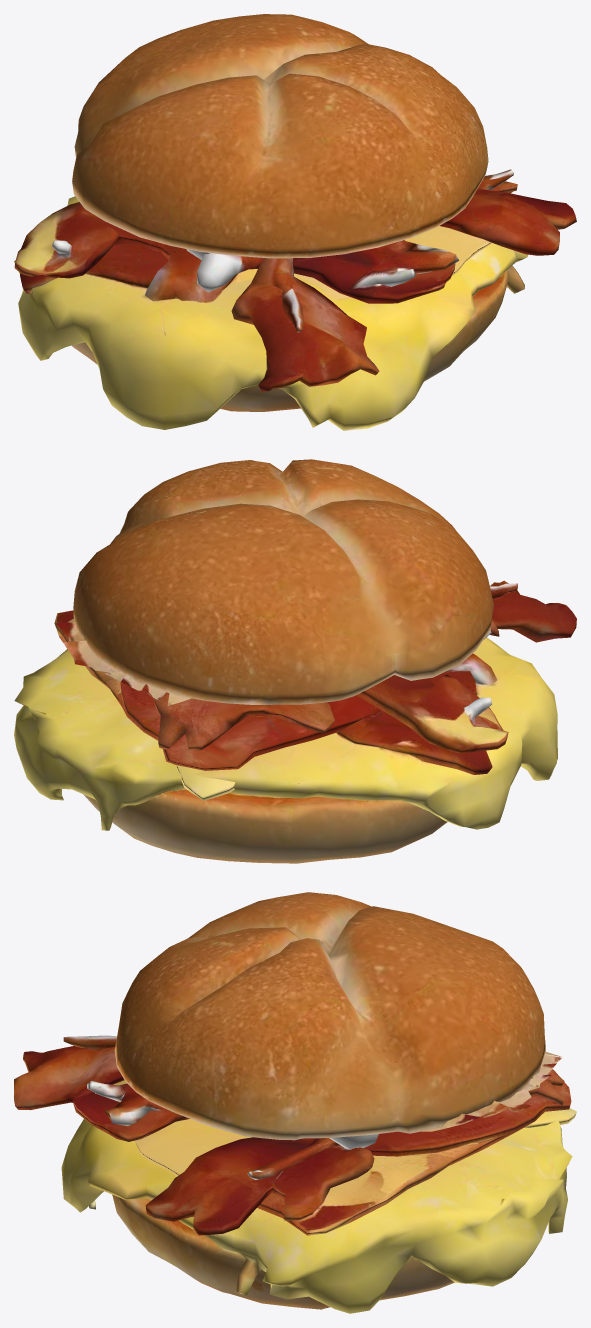
Rendered from bec-compressed.glb.
3 views of the same model, one above another, from view 1: azimuth 30°, elevation 25°; view 2: azimuth 150°, elevation 25°; view 3: azimuth 270°, elevation 25° (orthographic). The views are drawn at different scales.
Bounding box in the file's own units: 1 × 0.584 × 0.9941.
1 material, 1 textured.
